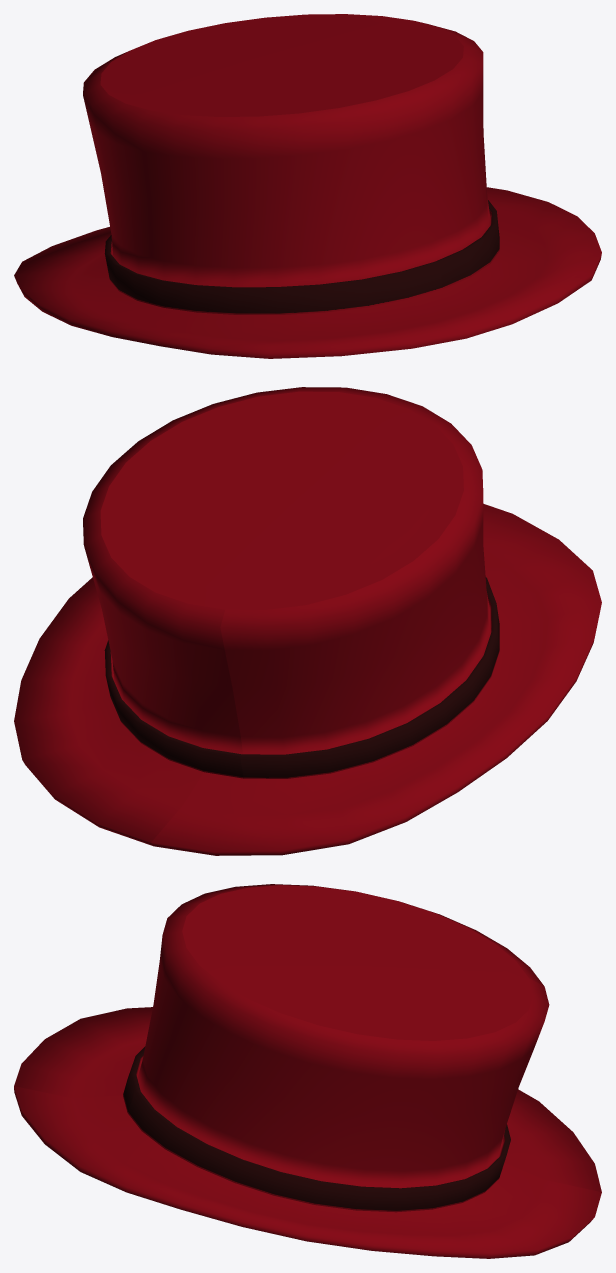
File: hat_3.glb
3 renders of one model, top to bottom at view 1: azimuth 30°, elevation 25°; view 2: azimuth 150°, elevation 25°; view 3: azimuth 270°, elevation 25°, orthographic. The views are drawn at different scales.
Parts seen in each view (by area): view 1: Tophat; view 2: Tophat; view 3: Tophat.
Part boxes in pixels (x1,y1,x2,y2): Tophat: [14, 14, 601, 358]; Tophat: [14, 387, 601, 855]; Tophat: [14, 884, 601, 1258].
Size of the model in its own units: 88.32 by 50.22 by 101.
1 material, 1 textured.
